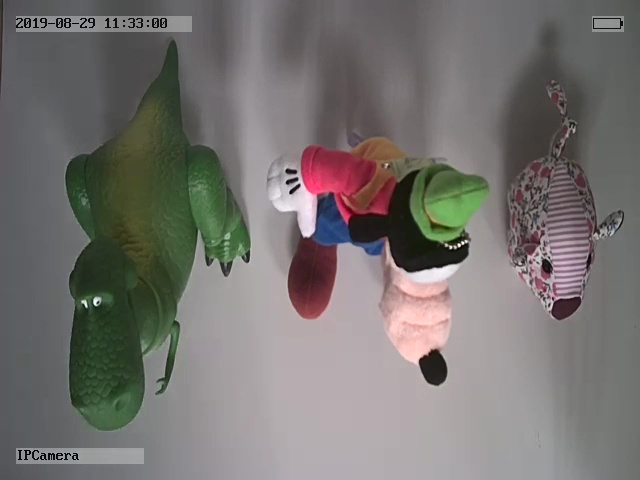goofy: (265, 136, 491, 389)
pig: (504, 79, 623, 319)
rex: (62, 37, 255, 431)
